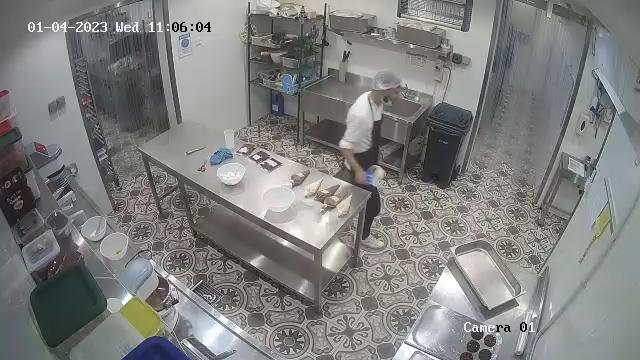apron: (343, 90, 384, 177)
